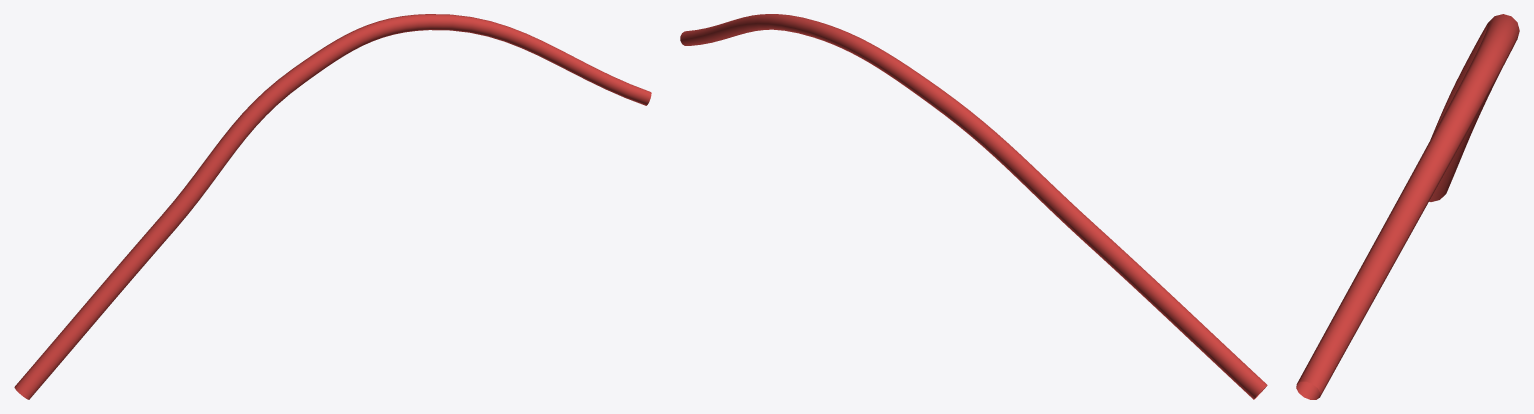
3 views of the same model, side by side, from view 1: azimuth 30°, elevation 25°; view 2: azimuth 150°, elevation 25°; view 3: azimuth 270°, elevation 25° (orthographic). The views are drawn at different scales.
Visible parts, largest first — view 1: 左侧旋肱后动脉; view 2: 左侧旋肱后动脉; view 3: 左侧旋肱后动脉.
Part boxes in pixels (x1,y1,x2,y2): 左侧旋肱后动脉: (14, 14, 651, 399); 左侧旋肱后动脉: (680, 14, 1267, 399); 左侧旋肱后动脉: (1296, 14, 1519, 399).
Bounding box in the file's own units: 0.0823 × 0.036 × 0.0147.
